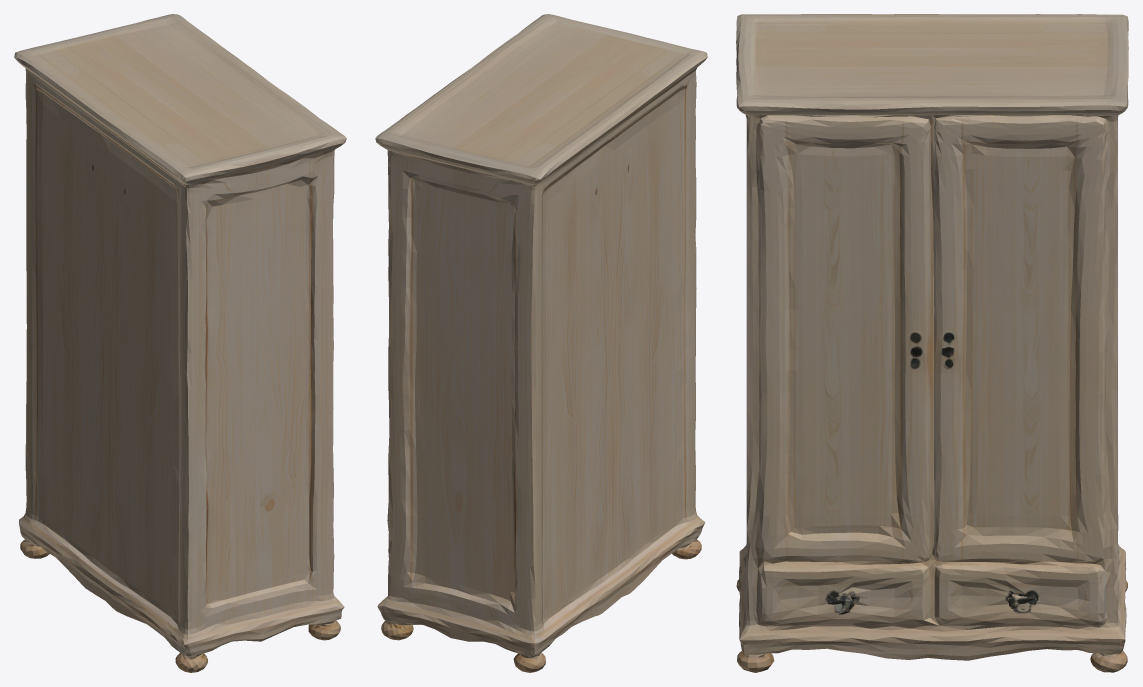
The model's file is cupboard2.glb.
3 renders of one model, left to right at view 1: azimuth 30°, elevation 25°; view 2: azimuth 150°, elevation 25°; view 3: azimuth 270°, elevation 25°, orthographic. The views are drawn at different scales.
Visible parts, largest first — view 1: tripo_node_e80664db-88b0-480b-b858-225112b3e46e; view 2: tripo_node_e80664db-88b0-480b-b858-225112b3e46e; view 3: tripo_node_e80664db-88b0-480b-b858-225112b3e46e.
Boxes of the visible parts, bbox=[...] form: tripo_node_e80664db-88b0-480b-b858-225112b3e46e: bbox=[14, 14, 346, 672]; tripo_node_e80664db-88b0-480b-b858-225112b3e46e: bbox=[375, 14, 707, 672]; tripo_node_e80664db-88b0-480b-b858-225112b3e46e: bbox=[736, 14, 1128, 672].
Size of the model in its own units: 0.3536 by 0.9999 by 0.6196.
1 material, 1 textured.
